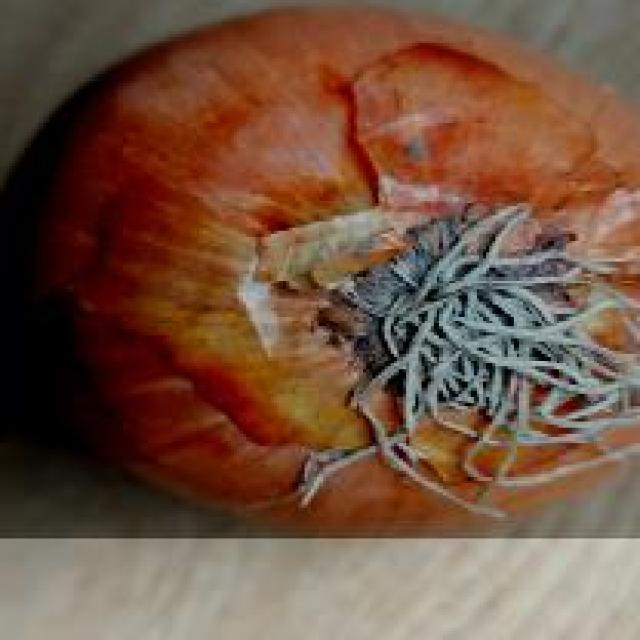onion: (0, 0, 640, 542)
